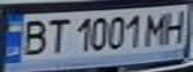0: (106, 12, 127, 51), (90, 14, 109, 52)
1: (72, 15, 93, 52), (124, 12, 145, 48)
B: (15, 17, 51, 56)
H: (160, 7, 193, 44)
M: (142, 9, 172, 46)
T: (42, 16, 69, 54)
